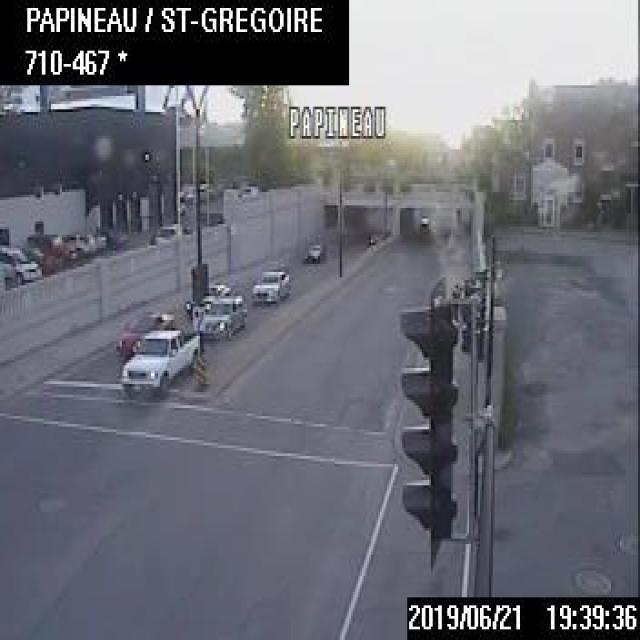vehicle: (118, 324, 198, 395), (114, 306, 174, 359), (198, 294, 245, 339), (27, 231, 71, 268), (250, 264, 290, 304), (0, 242, 40, 282), (148, 221, 182, 244), (302, 237, 320, 259), (364, 232, 378, 245)
